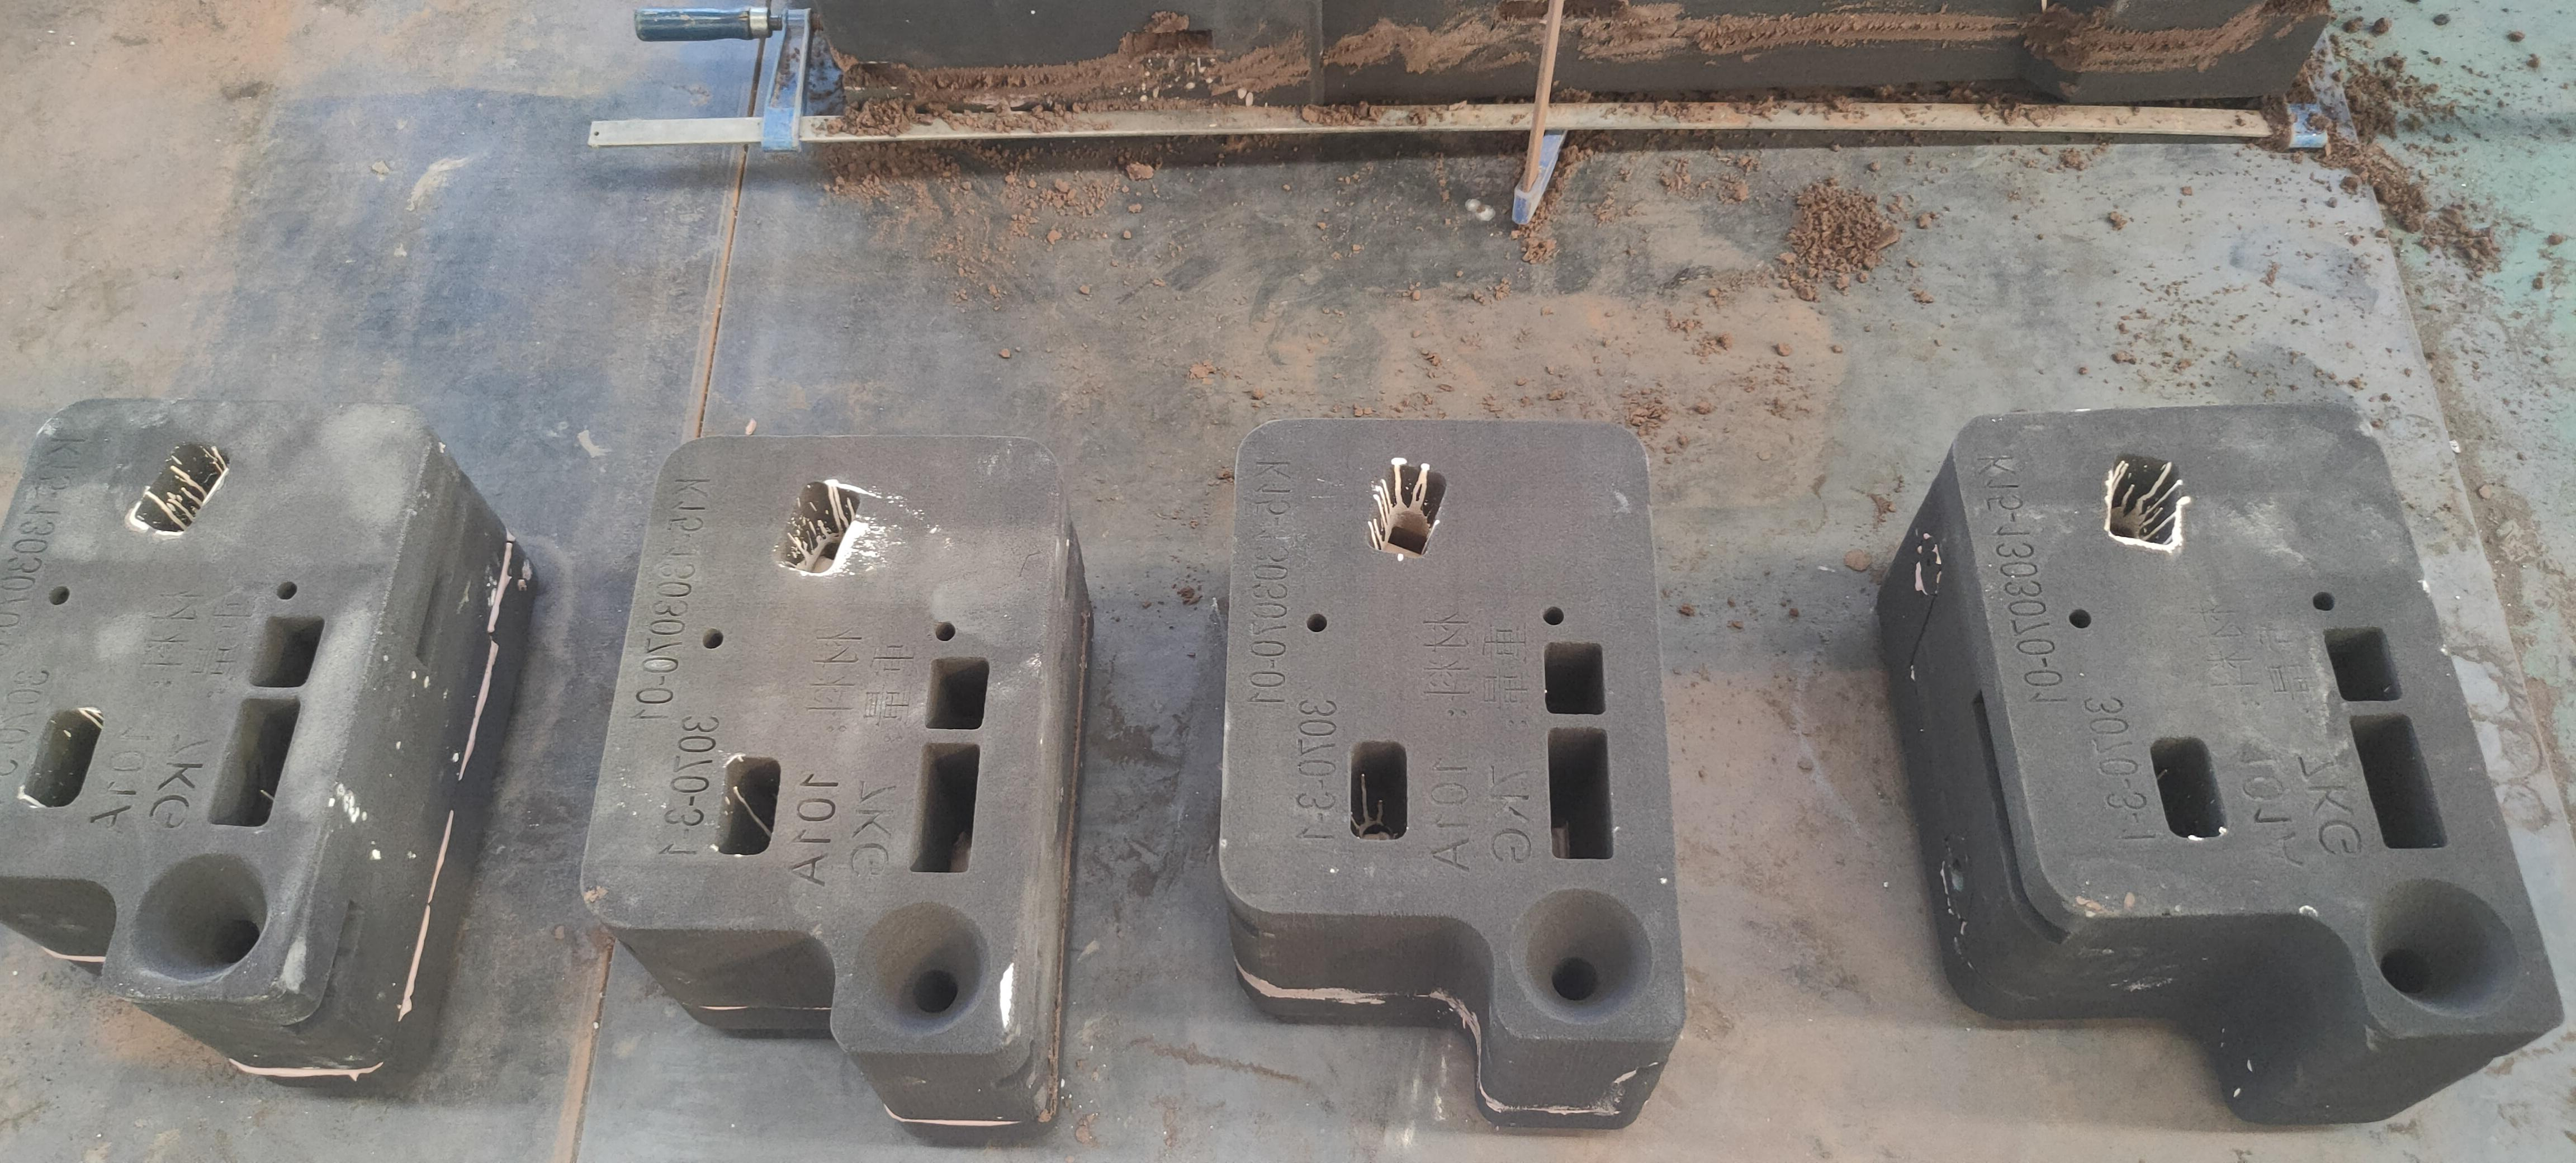pouring hole: (2366, 876, 2520, 1020), (1508, 889, 1656, 1025), (853, 903, 991, 1035), (130, 853, 271, 981)
